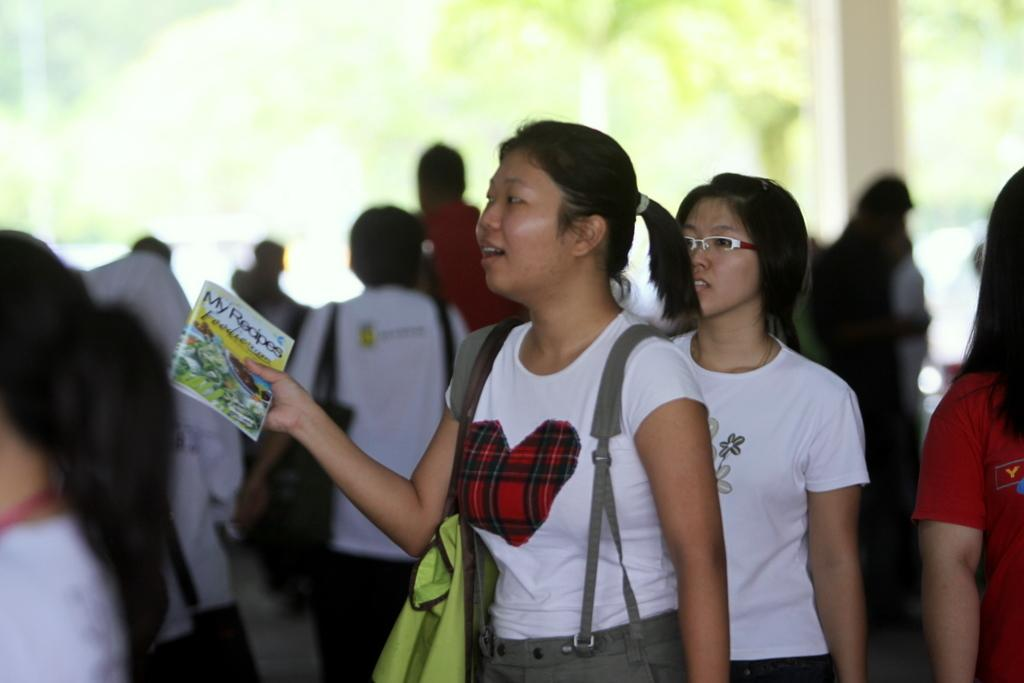Book: (164, 274, 300, 443)
